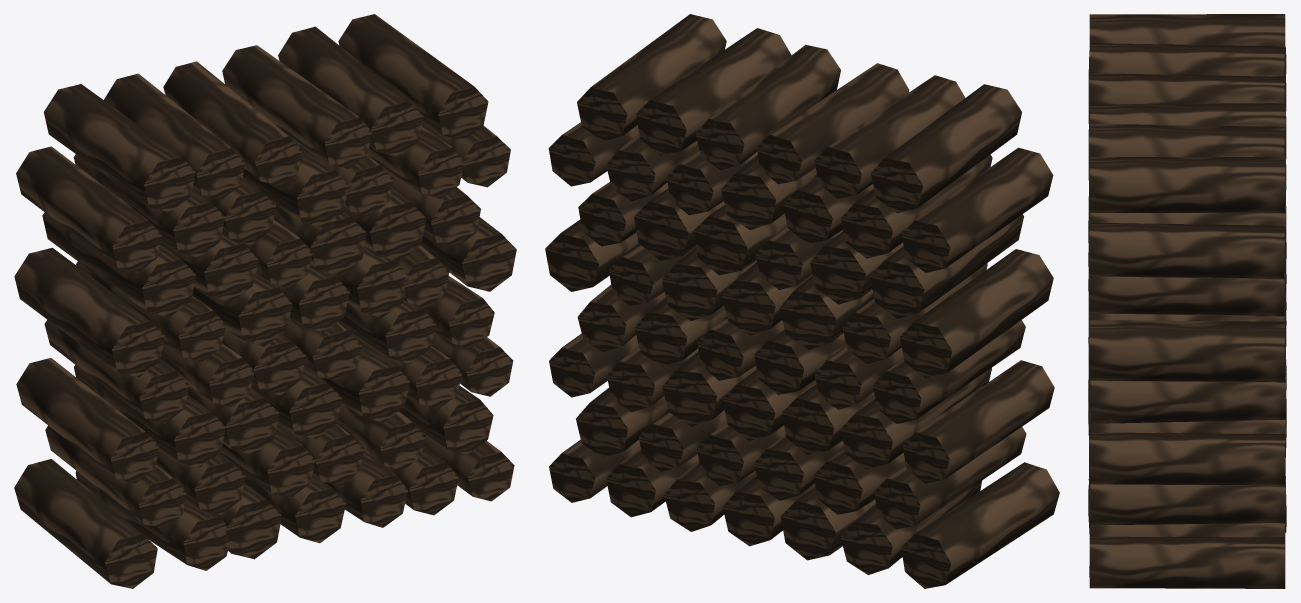
Rendered from woodpile_v1.glb.
3 views of the same model, side by side, from view 1: azimuth 30°, elevation 25°; view 2: azimuth 150°, elevation 25°; view 3: azimuth 270°, elevation 25° (orthographic). The views are drawn at different scales.
Parts seen in each view (by area): view 1: woodpile_v1; view 2: woodpile_v1; view 3: woodpile_v1.
Part boxes in pixels (x1,y1,x2,y2): woodpile_v1: (14,14,516,588); woodpile_v1: (545,14,1059,588); woodpile_v1: (1088,14,1286,588).
Size of the model in its own units: 0.94 by 0.9122 by 0.3964.
Materials: 1 (1 with a texture image).
